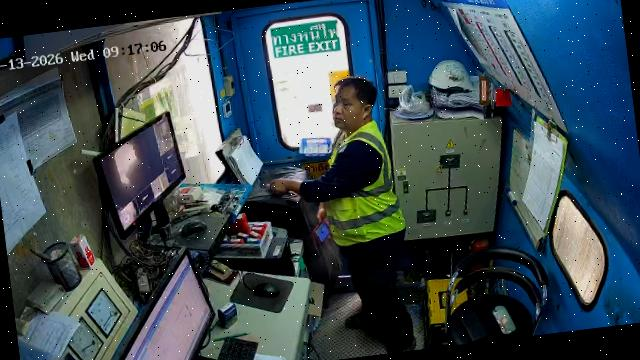Head: (334, 78, 377, 133)
People: (269, 78, 416, 358)
Phone: (458, 312, 489, 341), (476, 311, 501, 336), (314, 221, 330, 242)
